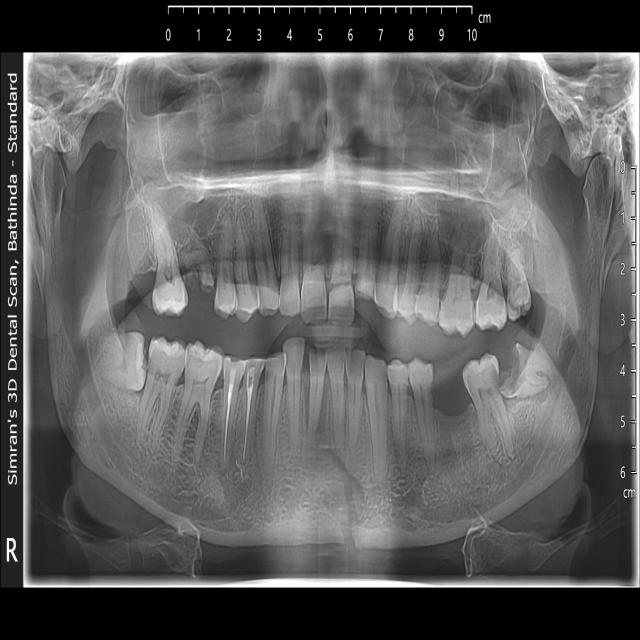Caries: (463, 351, 502, 405), (187, 344, 223, 381)
Missing teeth: (436, 372, 476, 456)
Periapical lesion: (529, 374, 551, 405)
Root Canal Treatment: (240, 359, 266, 470), (223, 364, 245, 468)
Root Piece: (180, 230, 215, 294)
impacted tooth: (99, 332, 147, 397), (502, 342, 550, 398)
